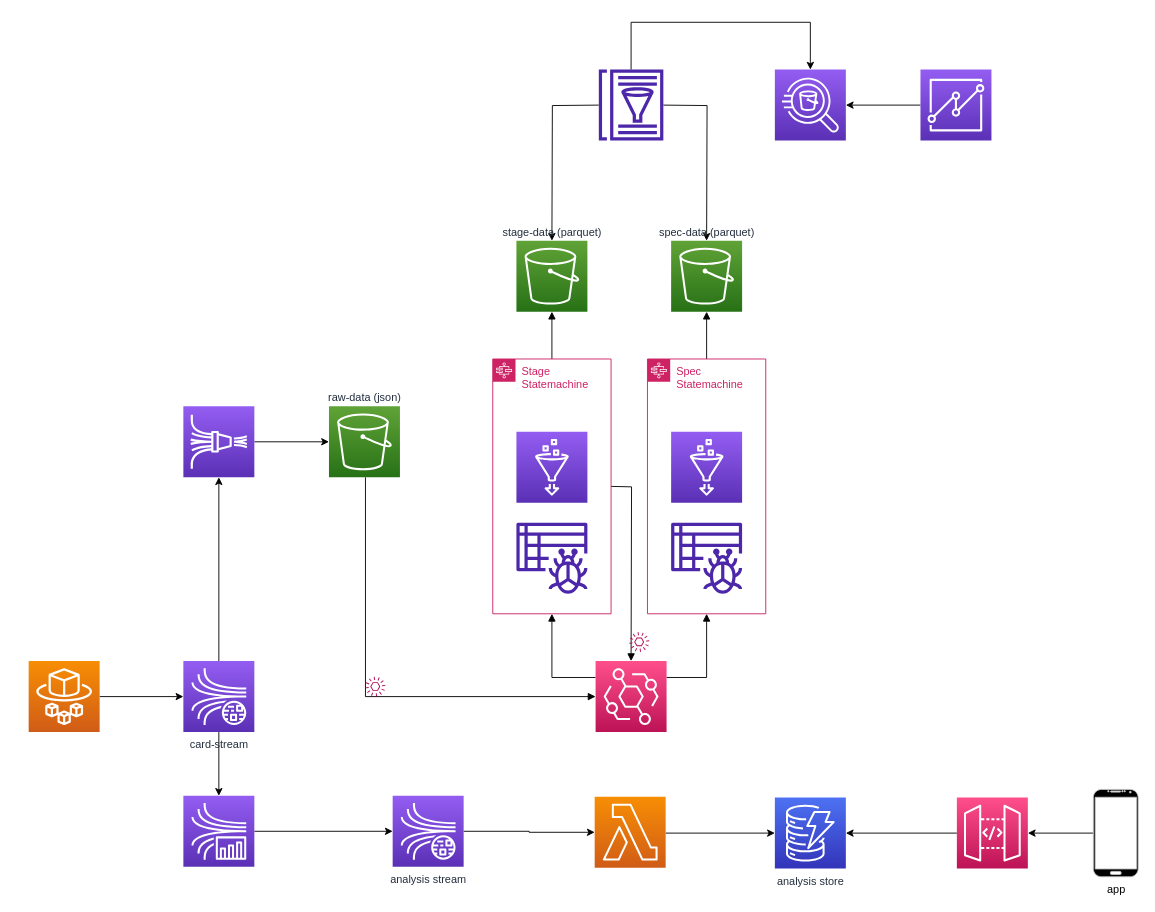
Image size: 1155x912. Some labels were removed from this diagram. Here are the shapes that lost their labels. From the top down, the box of each, then its label:
(182, 405, 254, 477): card-ingestion
(28, 660, 100, 732): Card Data Producer
(182, 795, 254, 867): transactions analysis
(594, 796, 666, 868): analysis consumer
(956, 797, 1028, 869): api gateway
